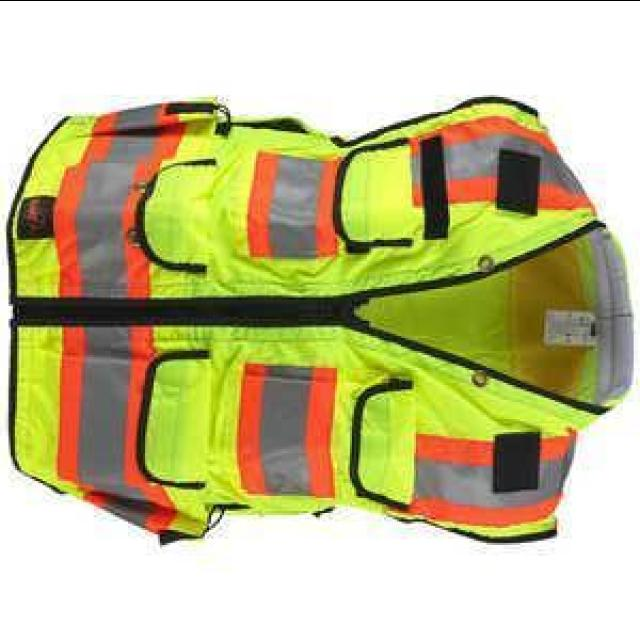jacket: (16, 86, 622, 578)
